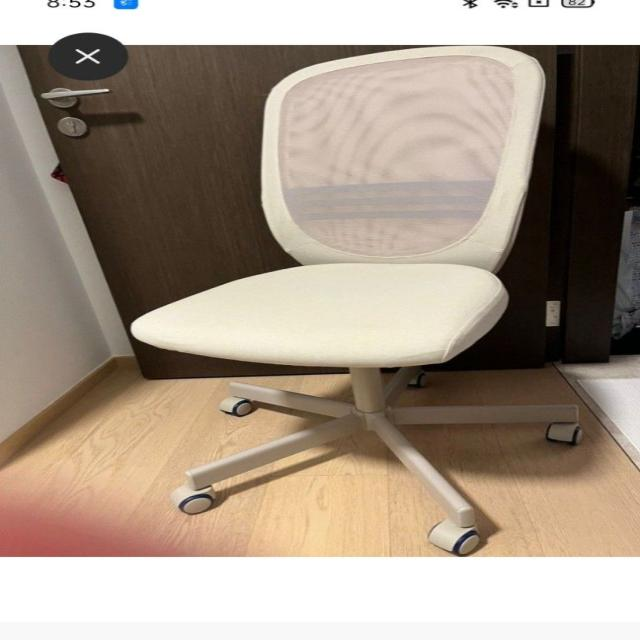Chair: (104, 39, 601, 562)
